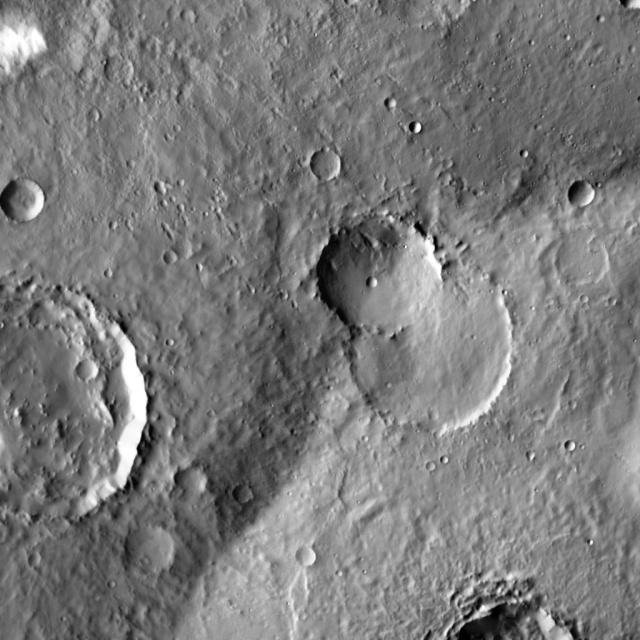crater: (0, 289, 153, 519), (347, 264, 518, 432), (318, 214, 440, 334), (0, 0, 118, 79), (557, 234, 611, 288), (126, 524, 177, 575), (1, 181, 44, 223), (105, 56, 136, 87), (312, 150, 343, 181), (178, 466, 209, 496), (568, 181, 596, 208), (173, 240, 195, 262), (76, 361, 98, 382), (297, 548, 317, 568), (234, 487, 252, 504), (80, 68, 96, 84), (28, 556, 43, 571), (180, 84, 193, 98), (183, 11, 196, 23), (165, 253, 177, 265), (412, 122, 424, 134), (155, 185, 167, 197), (89, 111, 101, 123), (168, 8, 180, 20), (346, 0, 361, 9), (387, 98, 398, 110), (333, 67, 345, 78), (443, 159, 454, 169), (322, 132, 333, 142), (178, 95, 188, 106), (104, 271, 114, 281), (127, 162, 137, 172), (279, 36, 289, 46), (368, 278, 378, 288), (427, 466, 437, 475), (520, 150, 530, 159), (526, 452, 536, 461), (322, 145, 331, 154), (566, 443, 575, 451), (178, 204, 186, 213), (597, 15, 605, 23), (110, 223, 118, 231), (281, 293, 289, 301), (478, 604, 486, 612), (300, 614, 308, 622), (467, 116, 475, 123), (167, 117, 174, 125), (170, 173, 178, 180), (167, 339, 174, 347), (156, 218, 164, 225), (475, 228, 483, 235), (581, 297, 589, 304), (610, 300, 617, 308), (329, 564, 336, 572), (108, 582, 116, 589), (48, 472, 55, 480), (570, 402, 578, 409), (154, 193, 161, 200), (190, 257, 197, 264), (209, 200, 216, 207), (442, 457, 449, 464), (622, 40, 630, 46), (502, 429, 508, 435)
